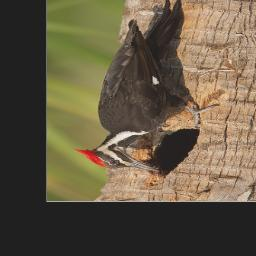Woodpecker: (73, 0, 221, 172)
